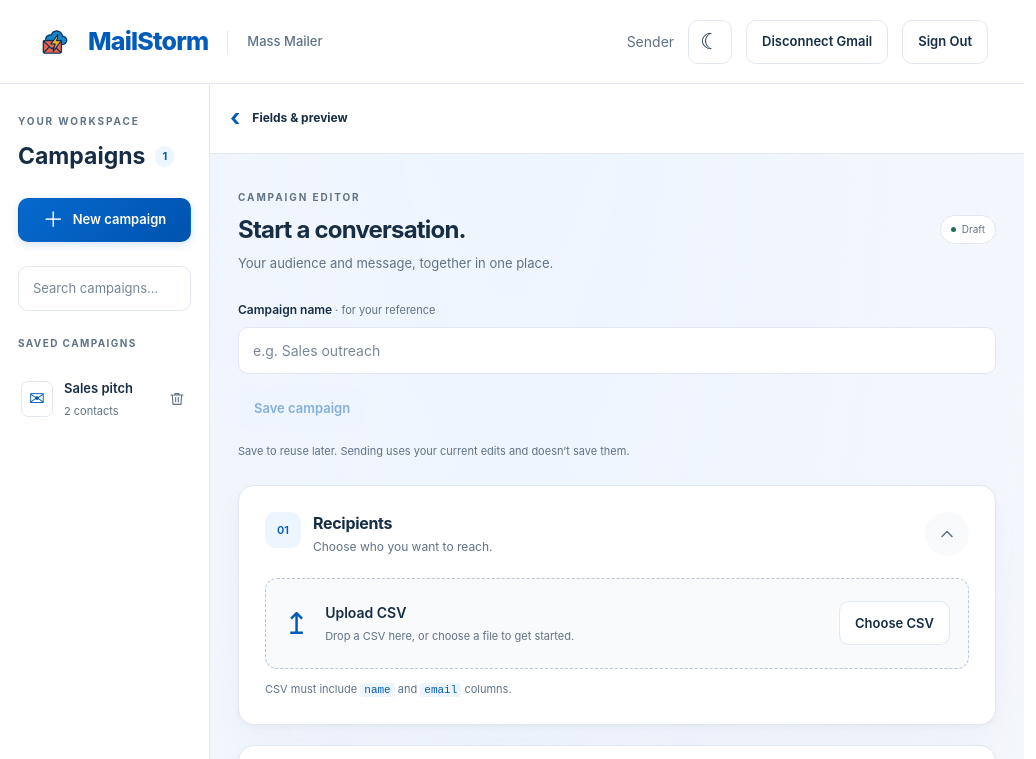
Scenario: deletes a saved definition and clears the editor
The image size is (1036, 759).
Click the button "✉ Sales pitch 2 contacts" at (85, 399), box x1=11 y1=364 x2=159 y2=434
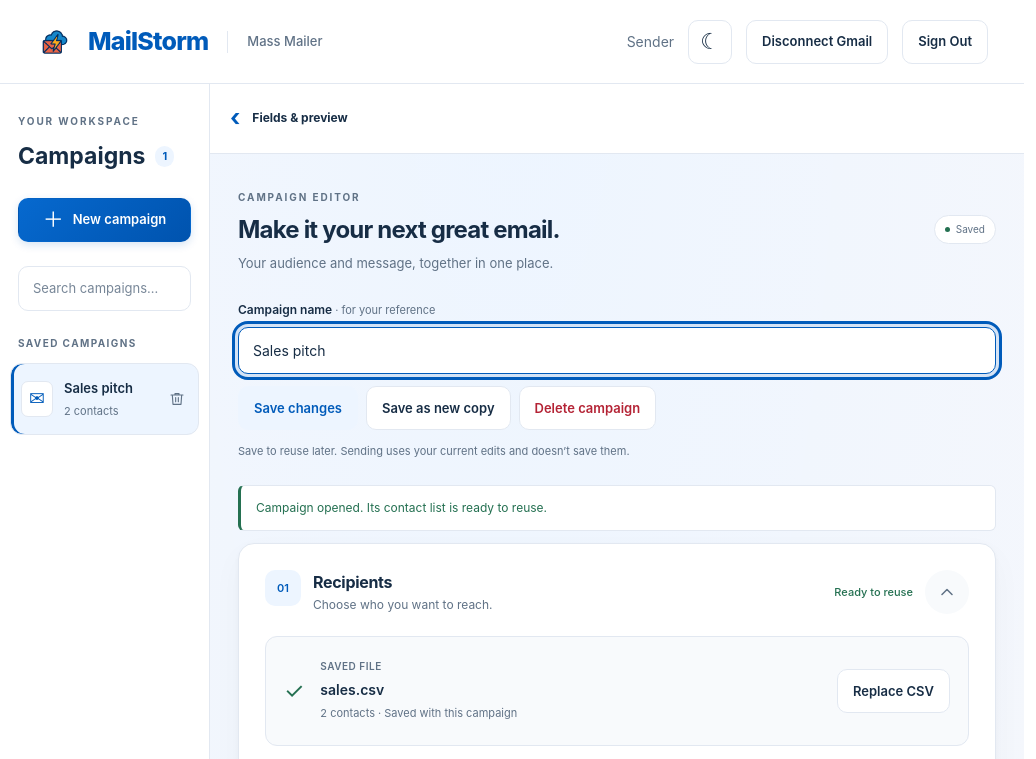
Click the button "Delete campaign" at (587, 408), box x1=518 y1=386 x2=656 y2=430
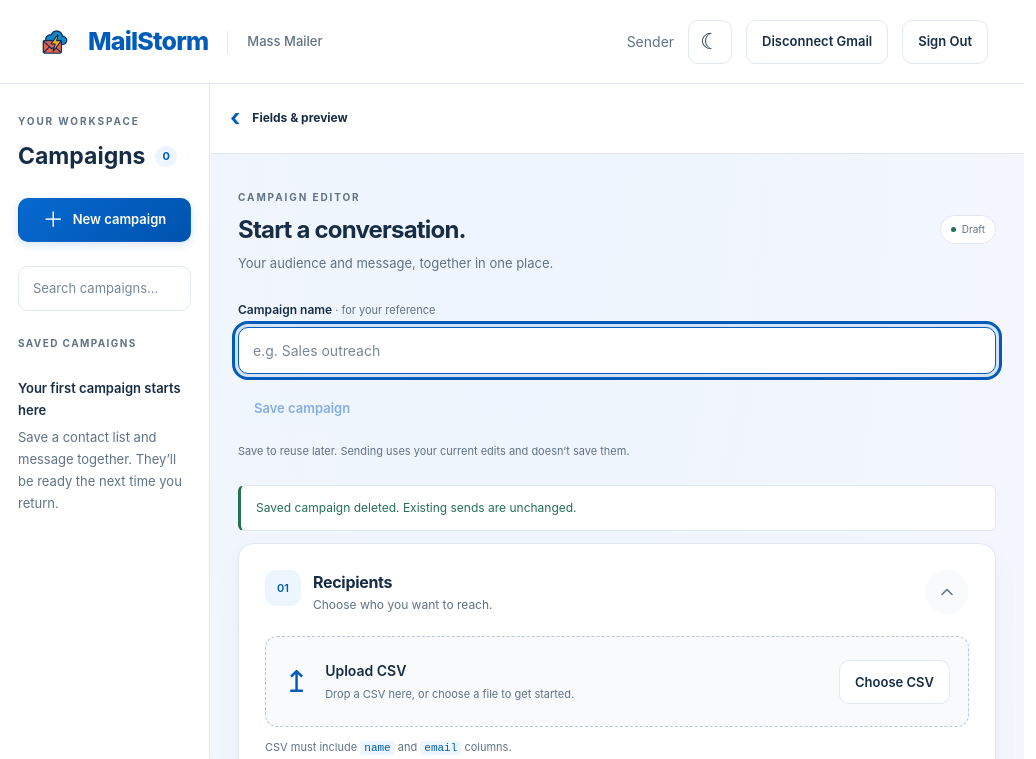
Expected: the text "Saved campaign deleted. Existing sends are unchanged." is shown, x1=238 y1=485 x2=996 y2=531
Expected: the field labelled "Campaign name · for your reference" is empty, x1=238 y1=327 x2=996 y2=374
Expected: the button "Sales pitch 2 contacts" is gone
